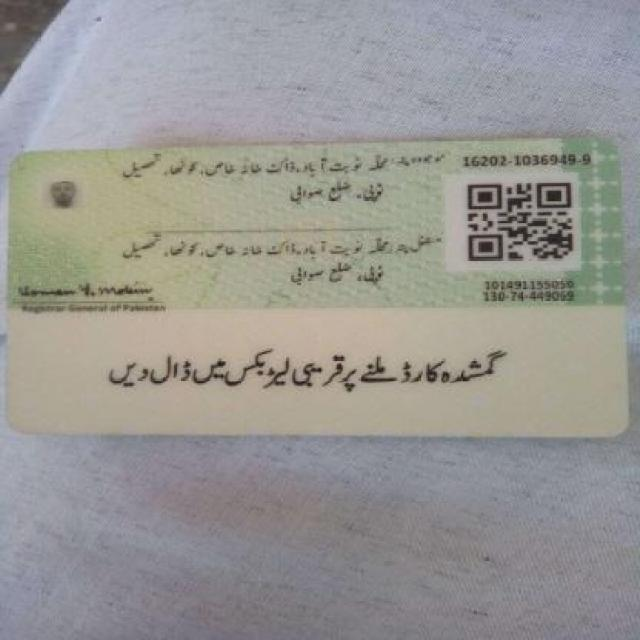Back: (6, 133, 632, 450)
